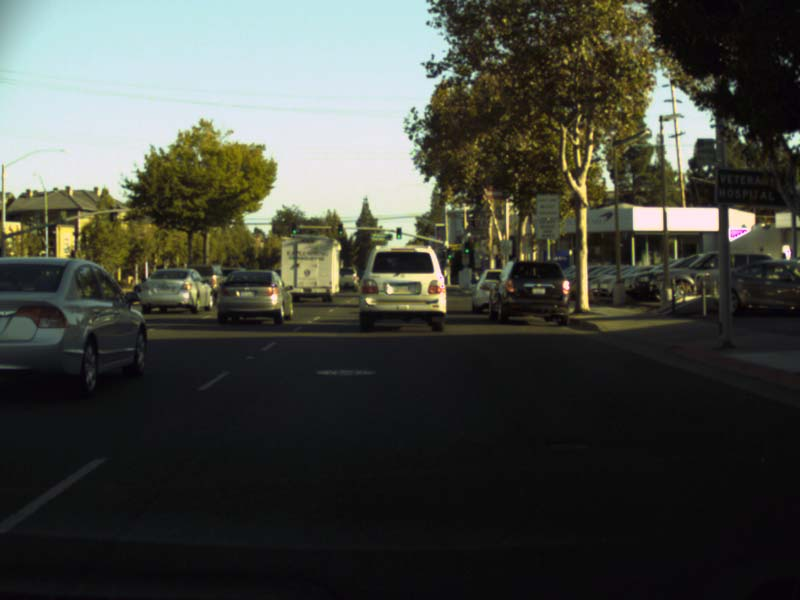Green: (446, 247, 453, 259), (464, 240, 470, 254), (291, 222, 296, 234), (337, 224, 342, 235), (396, 228, 400, 238)
